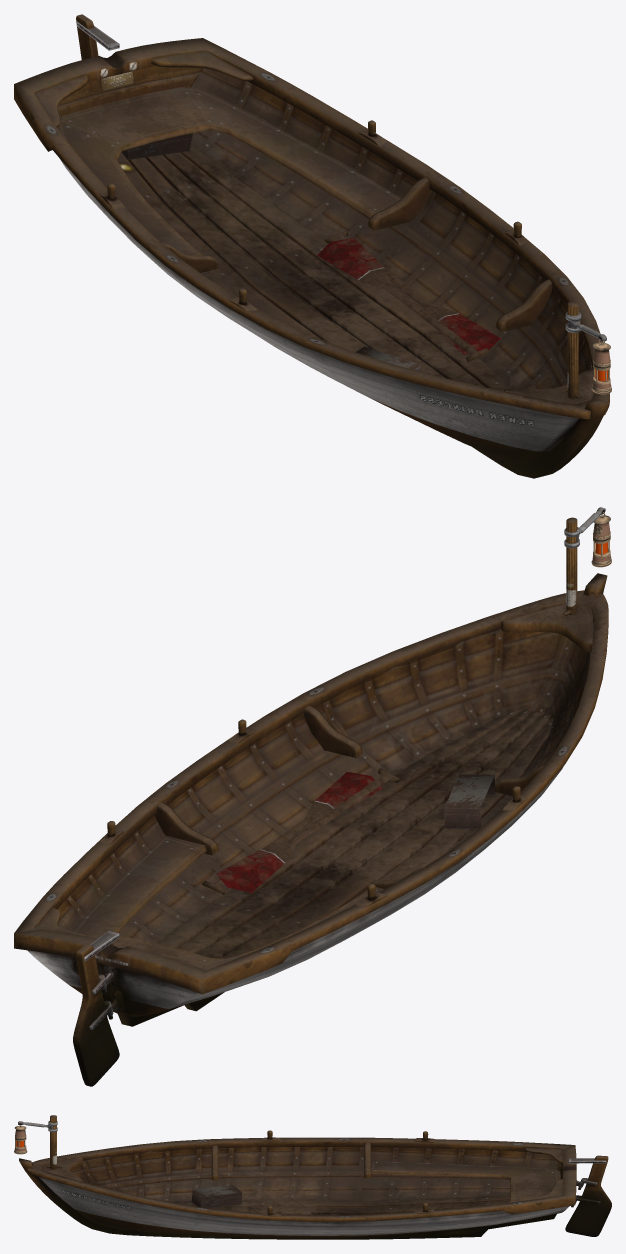
The model's file is Boat.fbx.
3 renders of one model, top to bottom at view 1: azimuth 30°, elevation 25°; view 2: azimuth 150°, elevation 25°; view 3: azimuth 270°, elevation 25°, orthographic. The views are drawn at different scales.
Visible parts, largest first — view 1: boatfoundation_low, bottomboards_low, trim_low, rearbench_low, oar_low, braces_low, rearbraces_low, chest_low, pegs_low, bracefront_low, lamppost_low, lamp_low.001 (+1 smaller); view 2: boatfoundation_low, bottomboards_low, trim_low, rearbench_low, oar_low, rudder_low, braces_low, bracefront_low, chest_low, pegs_low, lamppost_low, rearbraces_low (+1 smaller); view 3: boatfoundation_low, trim_low, bottomboards_low, rearbench_low, rudder_low, chest_low, braces_low, rearbraces_low, bracefront_low, pegs_low, lamppost_low, lamp_low.001 (+3 smaller).
Part boxes in pixels (bbox=[...]): boatfoundation_low: bbox=[58, 66, 608, 478]; bottomboards_low: bbox=[117, 145, 512, 390]; trim_low: bbox=[14, 38, 609, 419]; rearbench_low: bbox=[57, 87, 401, 255]; oar_low: bbox=[317, 230, 500, 362]; braces_low: bbox=[162, 177, 552, 331]; rearbraces_low: bbox=[34, 51, 253, 126]; chest_low: bbox=[121, 133, 422, 371]; pegs_low: bbox=[99, 120, 528, 310]; bracefront_low: bbox=[502, 368, 594, 404]; lamppost_low: bbox=[567, 301, 578, 398]; lamp_low.001: bbox=[591, 339, 611, 394]; boatfoundation_low: bbox=[27, 573, 607, 1026]; bottomboards_low: bbox=[157, 709, 553, 958]; trim_low: bbox=[14, 590, 608, 994]; rearbench_low: bbox=[71, 836, 384, 961]; oar_low: bbox=[202, 768, 400, 894]; rudder_low: bbox=[73, 944, 119, 1086]; braces_low: bbox=[155, 706, 544, 890]; bracefront_low: bbox=[500, 603, 593, 652]; chest_low: bbox=[444, 774, 495, 829]; pegs_low: bbox=[100, 719, 527, 907]; lamppost_low: bbox=[566, 517, 577, 615]; rearbraces_low: bbox=[35, 908, 244, 970]; boatfoundation_low: bbox=[19, 1147, 568, 1239]; trim_low: bbox=[27, 1137, 576, 1221]; bottomboards_low: bbox=[167, 1195, 510, 1215]; rearbench_low: bbox=[371, 1160, 560, 1202]; rudder_low: bbox=[565, 1155, 611, 1236]; chest_low: bbox=[191, 1185, 242, 1208]; braces_low: bbox=[211, 1142, 370, 1180]; rearbraces_low: bbox=[524, 1148, 562, 1200]; bracefront_low: bbox=[42, 1157, 82, 1181]; pegs_low: bbox=[260, 1130, 436, 1216]; lamppost_low: bbox=[50, 1115, 56, 1169]; lamp_low.001: bbox=[14, 1125, 27, 1154].
Bounding box in the file's own units: 0.6376 × 0.4503 × 2.
Materials: 2 (1 with a texture image).
